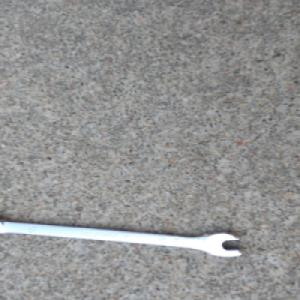Wrench: (0, 216, 246, 258)
